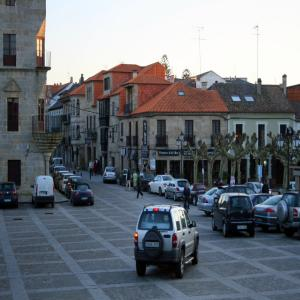Vehicle-registration-plate: (145, 242, 161, 249), (257, 216, 264, 226), (239, 225, 248, 231), (5, 198, 12, 204), (40, 193, 48, 197), (83, 196, 89, 200), (199, 198, 203, 204), (109, 174, 113, 178)
